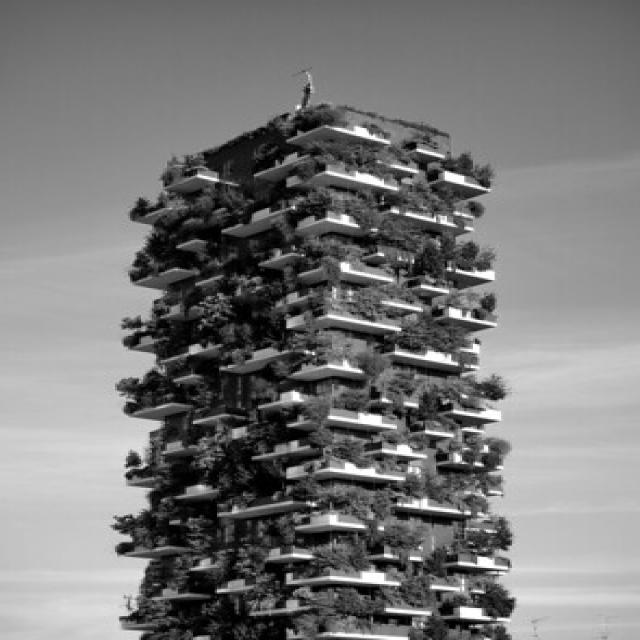Normal_building: (100, 93, 523, 640)
